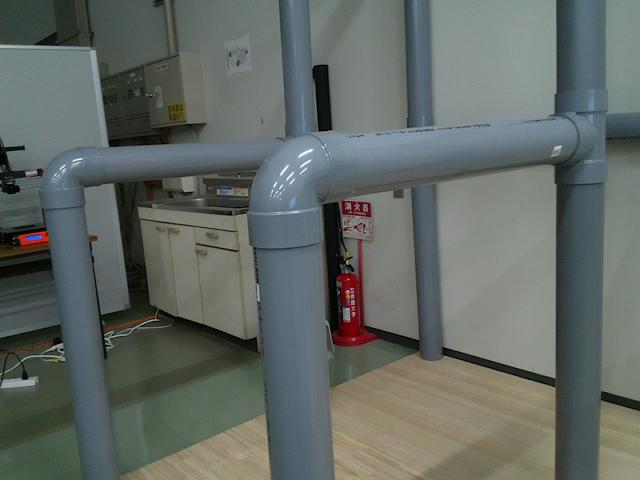bent: (246, 130, 357, 250), (39, 145, 108, 213)
junction: (547, 86, 611, 186)
